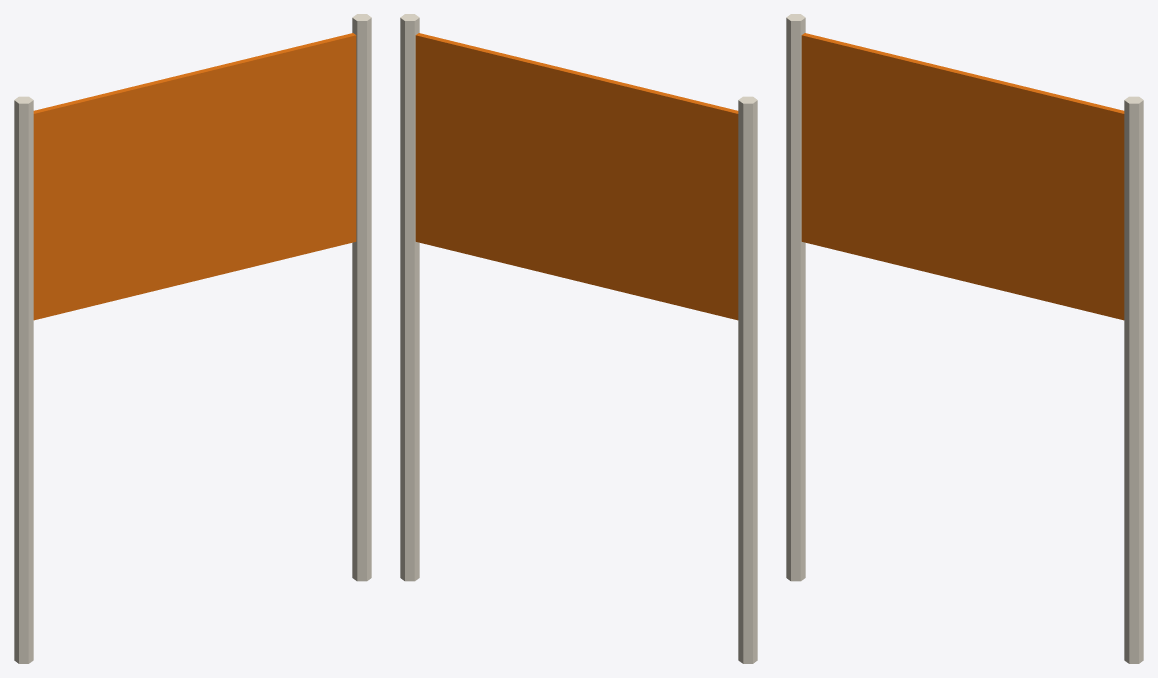
The model's file is slalom_gate.glb.
3 renders of one model, left to right at view 1: azimuth 30°, elevation 25°; view 2: azimuth 150°, elevation 25°; view 3: azimuth 330°, elevation 25°, orthographic.
Visible parts, largest first — view 1: slalom_gate; view 2: slalom_gate; view 3: slalom_gate.
Part boxes in pixels (box(x1,y1,x2,y2)): slalom_gate: box(14, 14, 371, 663); slalom_gate: box(400, 14, 757, 663); slalom_gate: box(786, 14, 1143, 663).
Size of the model in its own units: 1.25 by 1.9 by 0.0601.
